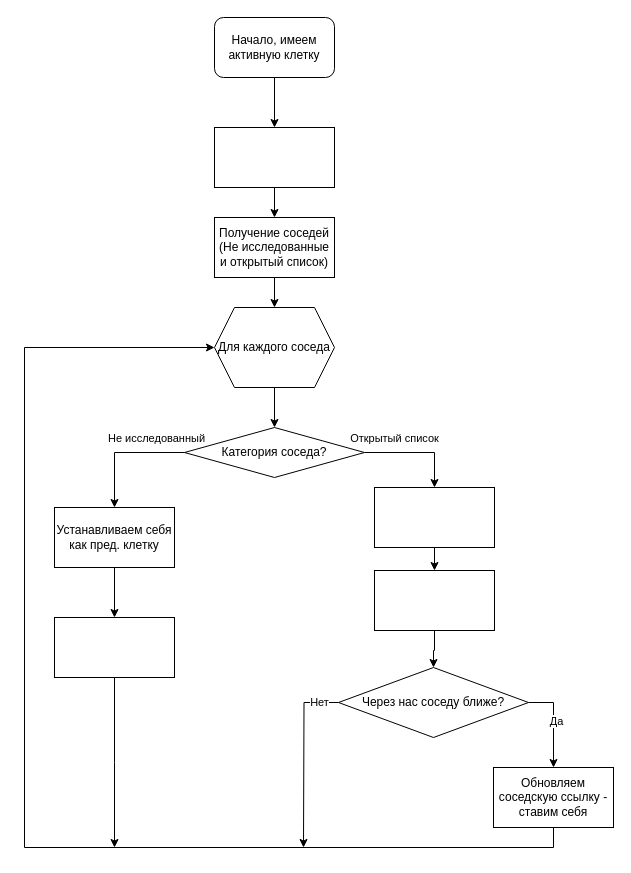
The diagram is 631 pixels wide and 873 high, and some of its shapes have lost their labels. Each missing label, with the box of its shape:
Добавляем соседа в открытый список: (54, 616, 174, 678)
Наше расстояние до старта + расстояние до соседа: (374, 570, 494, 630)
Получаем его расстояние до старта: (374, 486, 494, 548)
Получение расстояния до начала: (214, 126, 334, 188)
